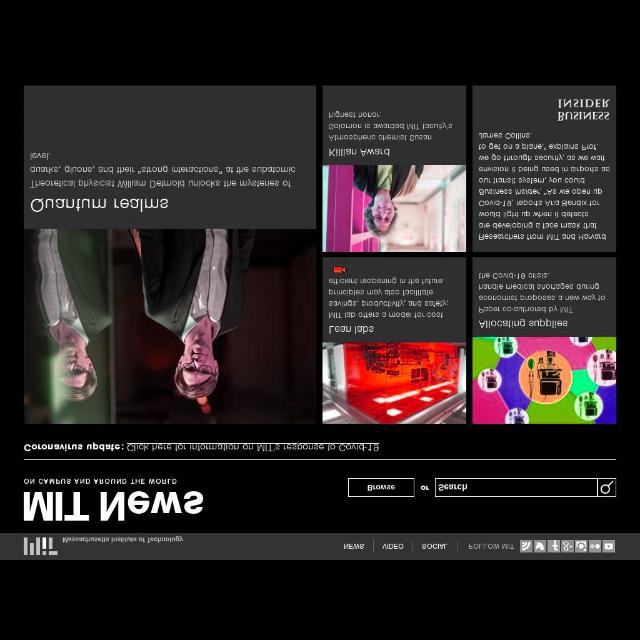button: (598, 478, 616, 498)
icon: (600, 480, 614, 494)
image: (23, 230, 316, 424), (472, 336, 616, 424), (322, 165, 466, 252), (322, 342, 466, 424), (24, 491, 202, 521), (23, 536, 58, 556), (574, 540, 588, 552), (588, 540, 602, 552), (602, 540, 616, 552), (520, 540, 532, 552), (534, 540, 546, 552), (548, 540, 560, 552), (562, 540, 574, 552)
input: (435, 478, 597, 498)
multitab: (344, 538, 616, 554)
text: (478, 132, 610, 240), (30, 152, 296, 188), (478, 272, 606, 314), (328, 277, 448, 319), (329, 111, 453, 142), (24, 442, 380, 452), (31, 198, 169, 212), (557, 98, 611, 122), (24, 478, 178, 484), (479, 318, 568, 328), (63, 536, 183, 542), (328, 148, 389, 158), (469, 542, 515, 550), (329, 326, 375, 334), (438, 484, 468, 492), (367, 485, 395, 491), (422, 543, 448, 549), (382, 543, 404, 549), (344, 543, 364, 549), (421, 486, 429, 490)
textbutton: (348, 478, 414, 498)
toolbar: (1, 461, 640, 534)
